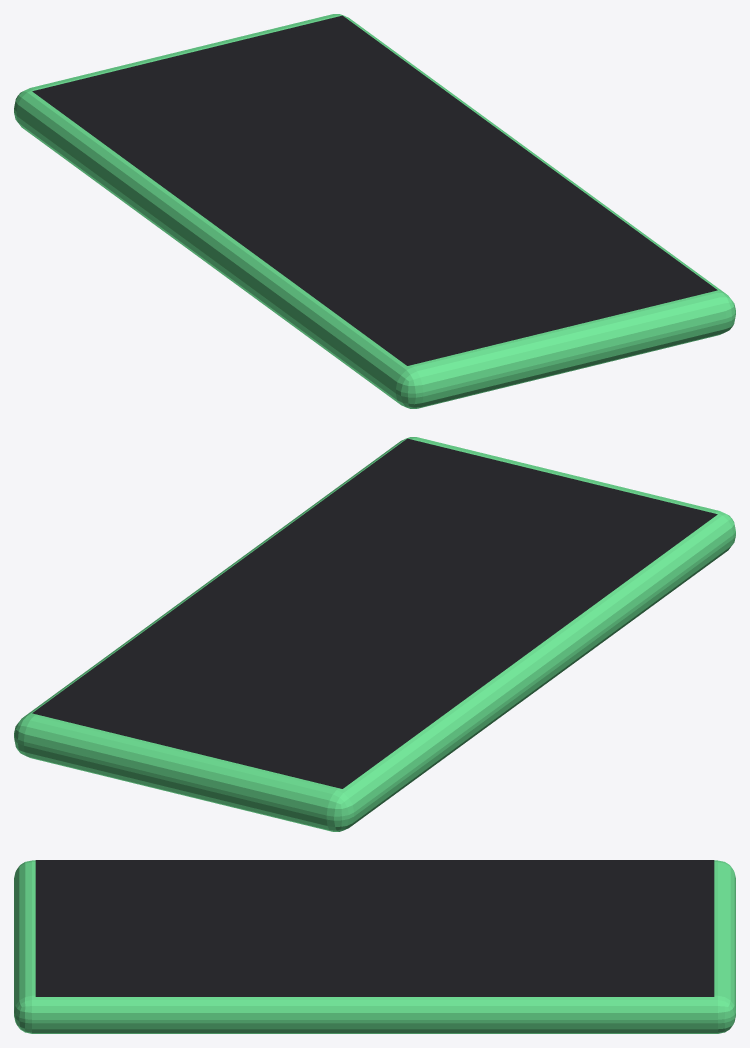
The model's file is xiaomi-model-104-mid-range-2025.glb.
The picture shows the model from 3 angles, top to bottom: view 1: azimuth 30°, elevation 25°; view 2: azimuth 150°, elevation 25°; view 3: azimuth 270°, elevation 25°; orthographic projection. The views are drawn at different scales.
Visible parts, largest first — view 1: Phone_Screen, Phone_Body; view 2: Phone_Screen, Phone_Body; view 3: Phone_Screen, Phone_Body.
Boxes of the visible parts, x1=… form: Phone_Screen: x1=32, y1=15, x2=717, y2=365; Phone_Body: x1=14, y1=14, x2=735, y2=408; Phone_Screen: x1=32, y1=438, x2=717, y2=788; Phone_Body: x1=14, y1=437, x2=735, y2=831; Phone_Screen: x1=35, y1=860, x2=714, y2=996; Phone_Body: x1=14, y1=860, x2=735, y2=1033.
Size of the model in its own units: 0.0778 by 0.009 by 0.1594.
